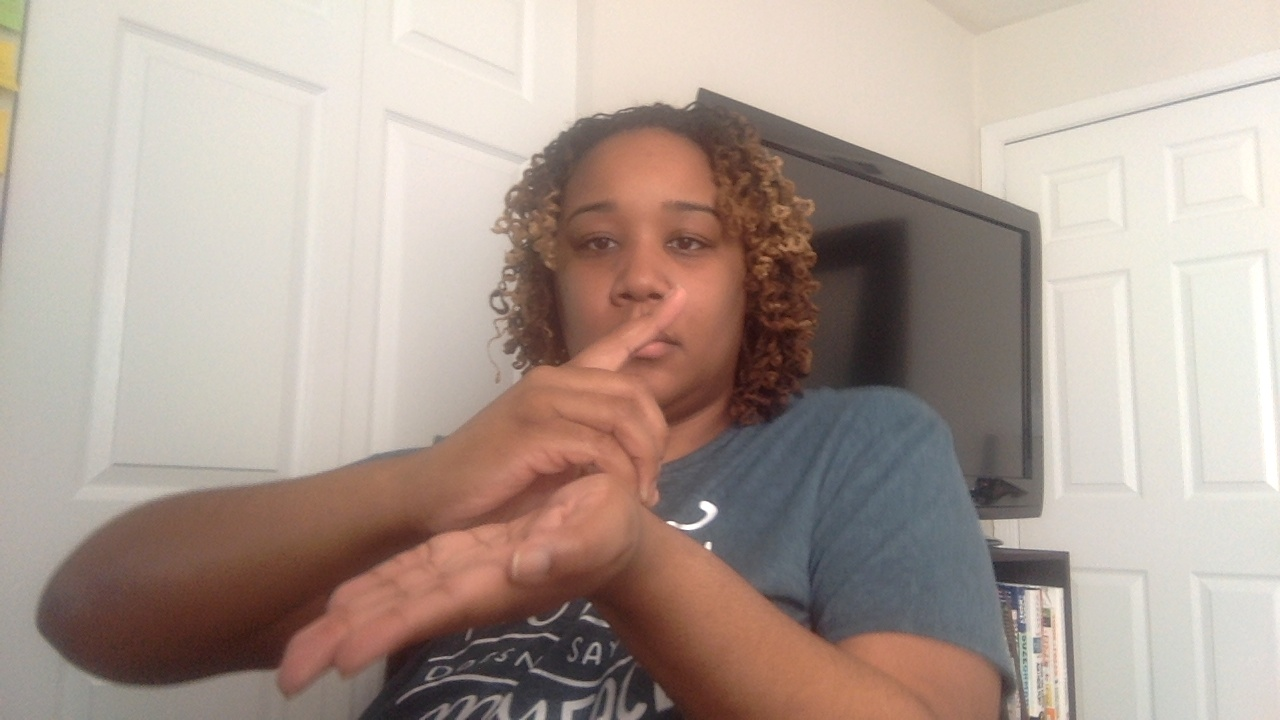doctor: (277, 281, 696, 703)
